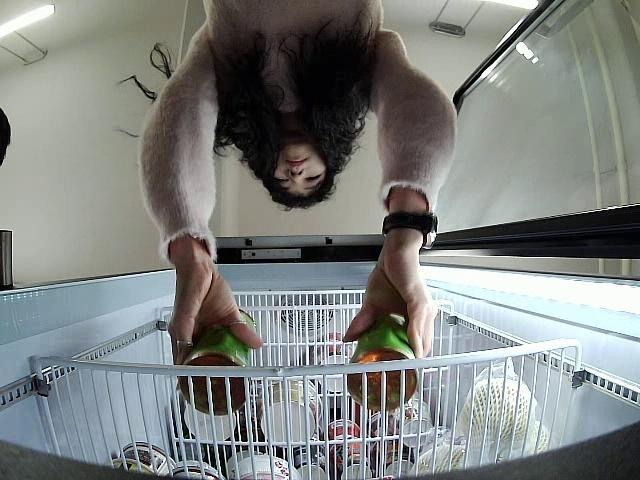19_17cha: (178, 300, 260, 419), (347, 309, 418, 413)
